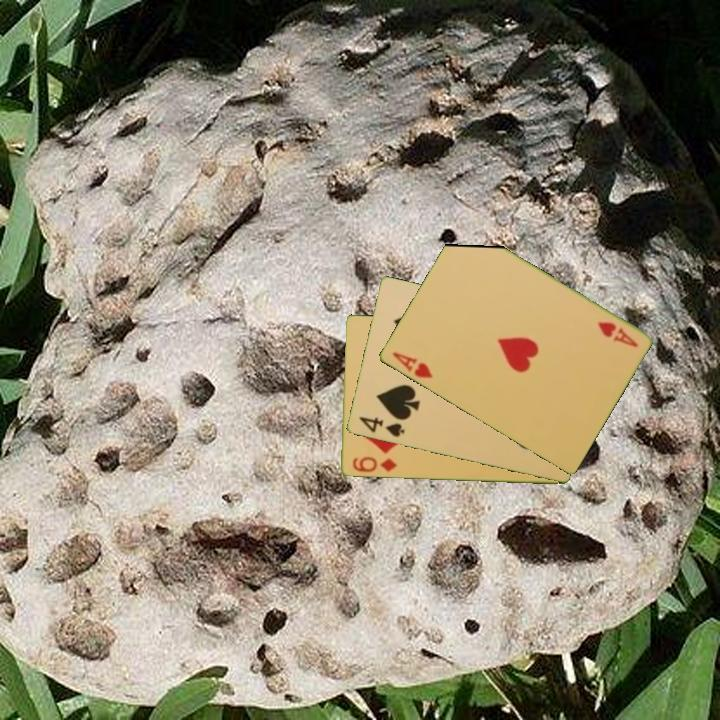4s: (355, 413, 407, 440)
6d: (349, 453, 400, 475)
Ah: (388, 348, 435, 381), (594, 318, 640, 350)
